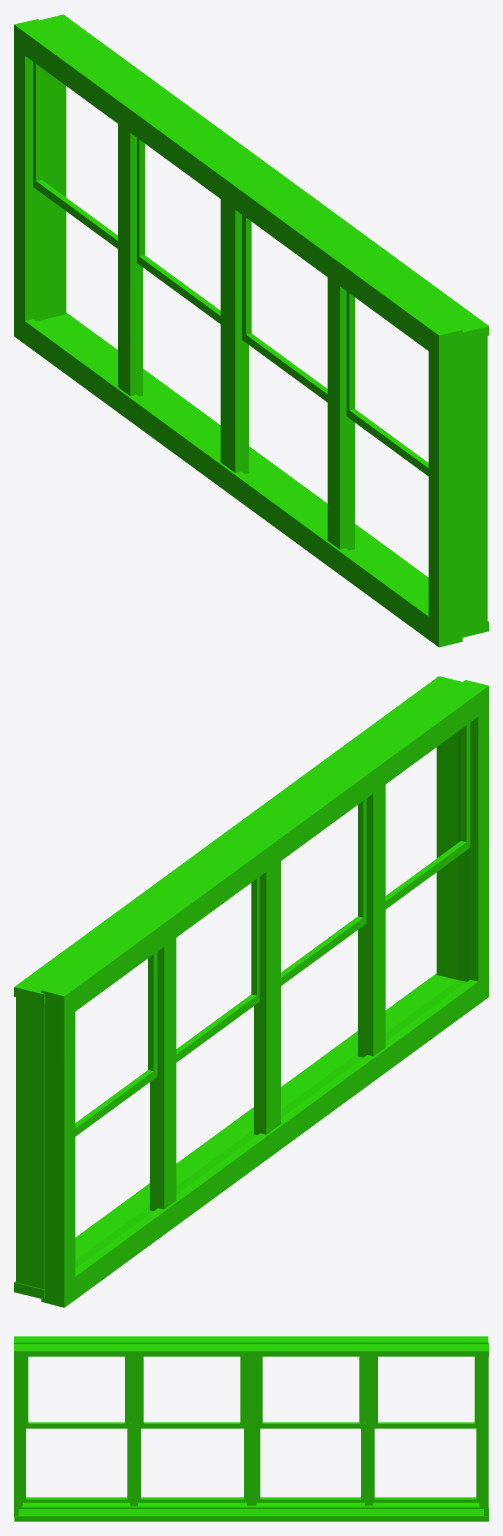
The model's file is Window_C_03B_Lod0.fbx.
The picture shows the model from 3 angles, top to bottom: view 1: azimuth 30°, elevation 25°; view 2: azimuth 150°, elevation 25°; view 3: azimuth 270°, elevation 25°; orthographic projection. The views are drawn at different scales.
Parts seen in each view (by area): view 1: Window_C_03B_Lod0; view 2: Window_C_03B_Lod0; view 3: Window_C_03B_Lod0.
Boxes of the visible parts, x1=… form: Window_C_03B_Lod0: x1=14, y1=14, x2=488, y2=647; Window_C_03B_Lod0: x1=14, y1=676, x2=488, y2=1307; Window_C_03B_Lod0: x1=14, y1=1336, x2=488, y2=1521.
Size of the model in its own units: 23.29 by 139 by 343.
